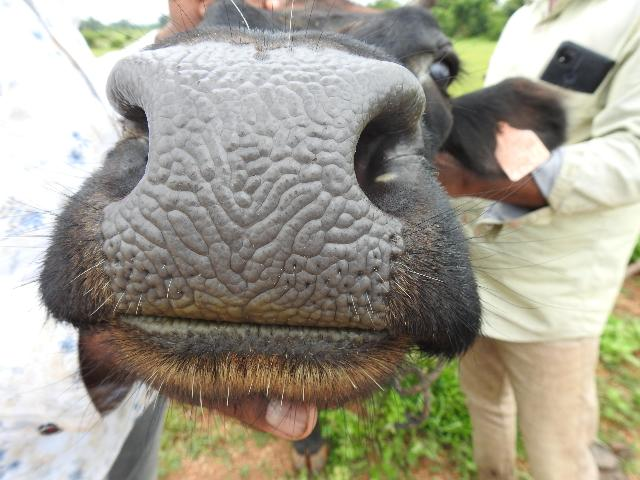Muzzle: (120, 61, 384, 319)
